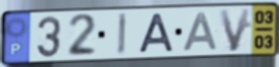2: (66, 12, 99, 60)
3: (34, 14, 62, 59)
A: (137, 12, 176, 54), (181, 11, 220, 53)
I: (116, 12, 129, 58)
V: (217, 6, 254, 53)
